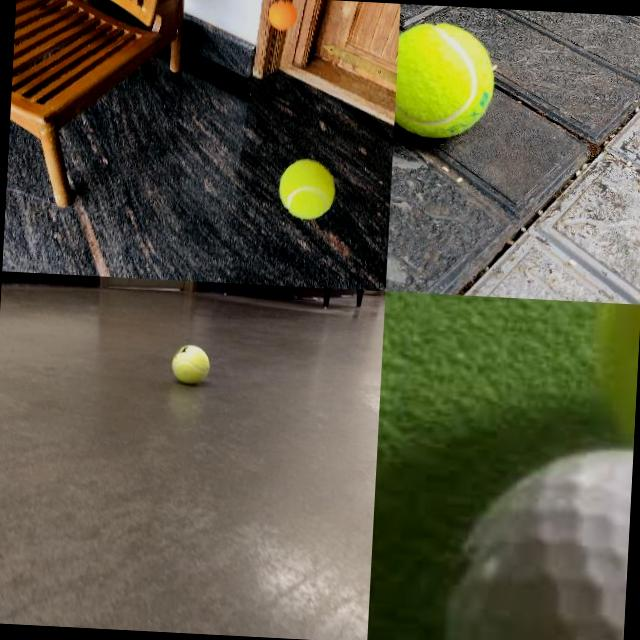tennis-ball: (394, 20, 499, 142), (278, 160, 336, 220), (170, 344, 210, 386)
